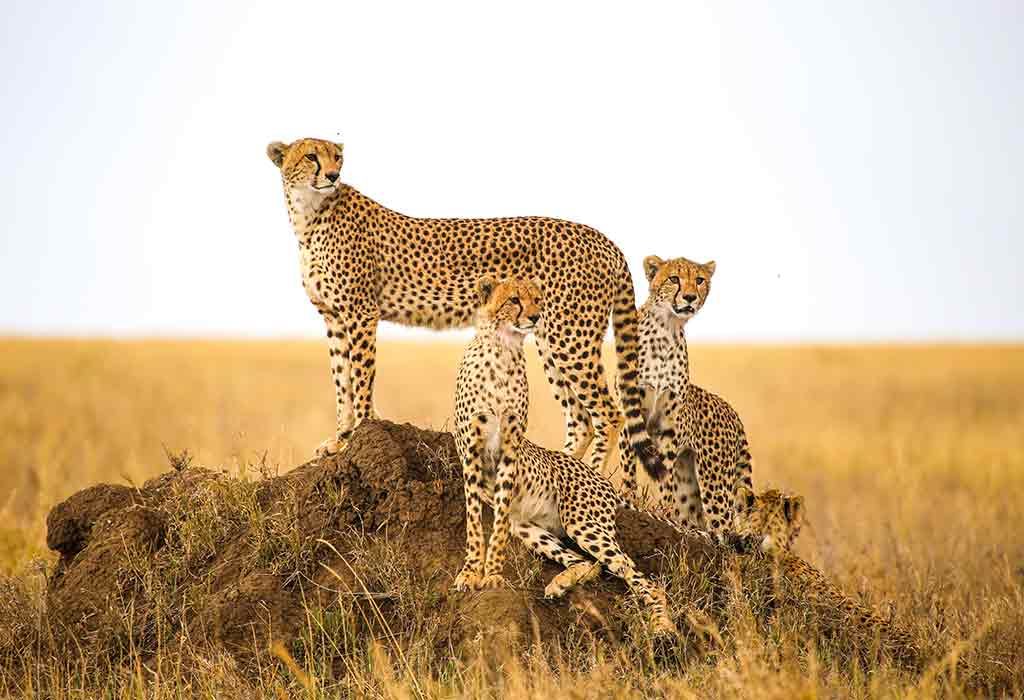cheetah: (462, 261, 551, 349), (261, 128, 355, 208), (638, 236, 718, 321)
